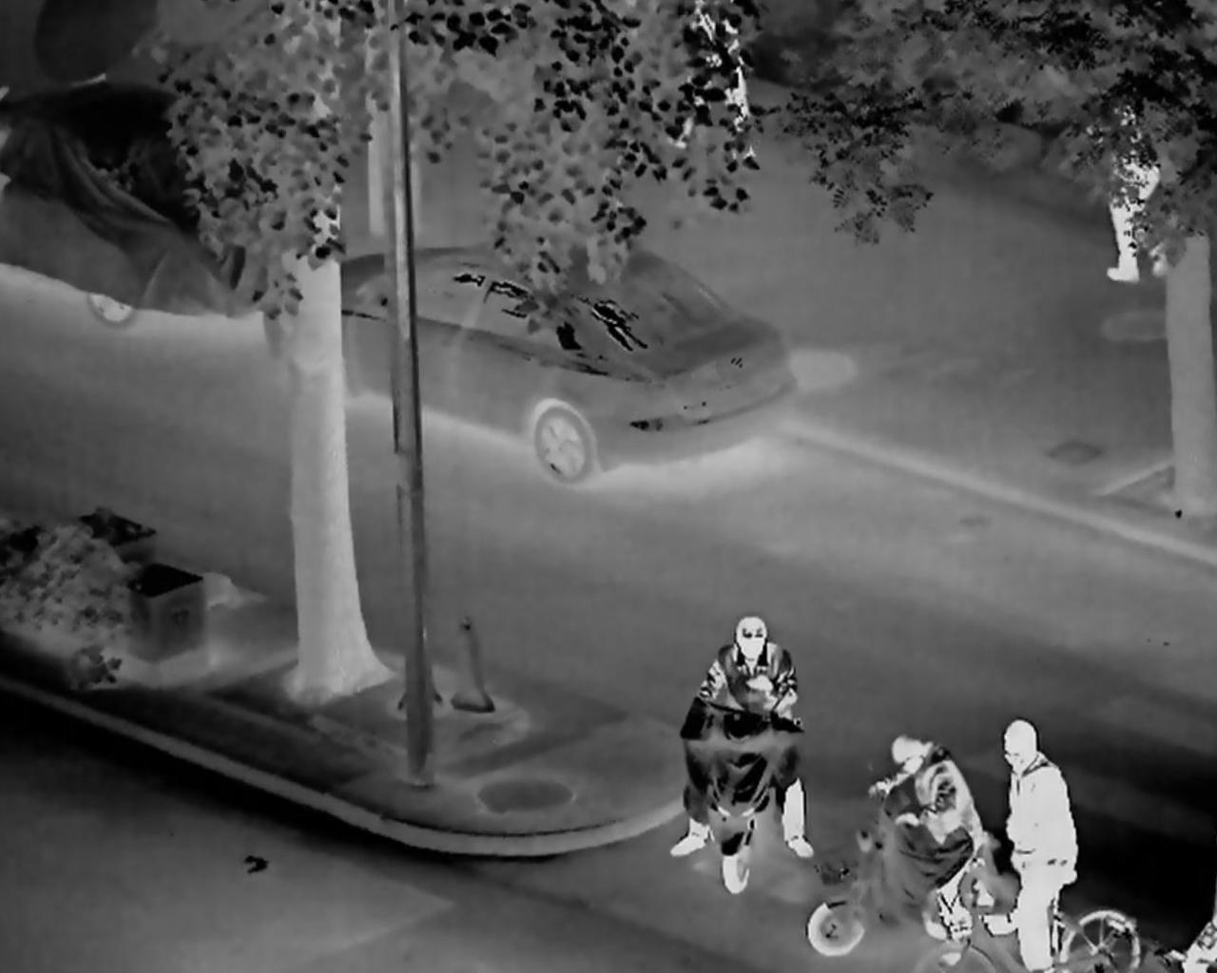person: (674, 601, 820, 885), (860, 728, 994, 973), (977, 698, 1096, 973), (1089, 88, 1172, 296)
